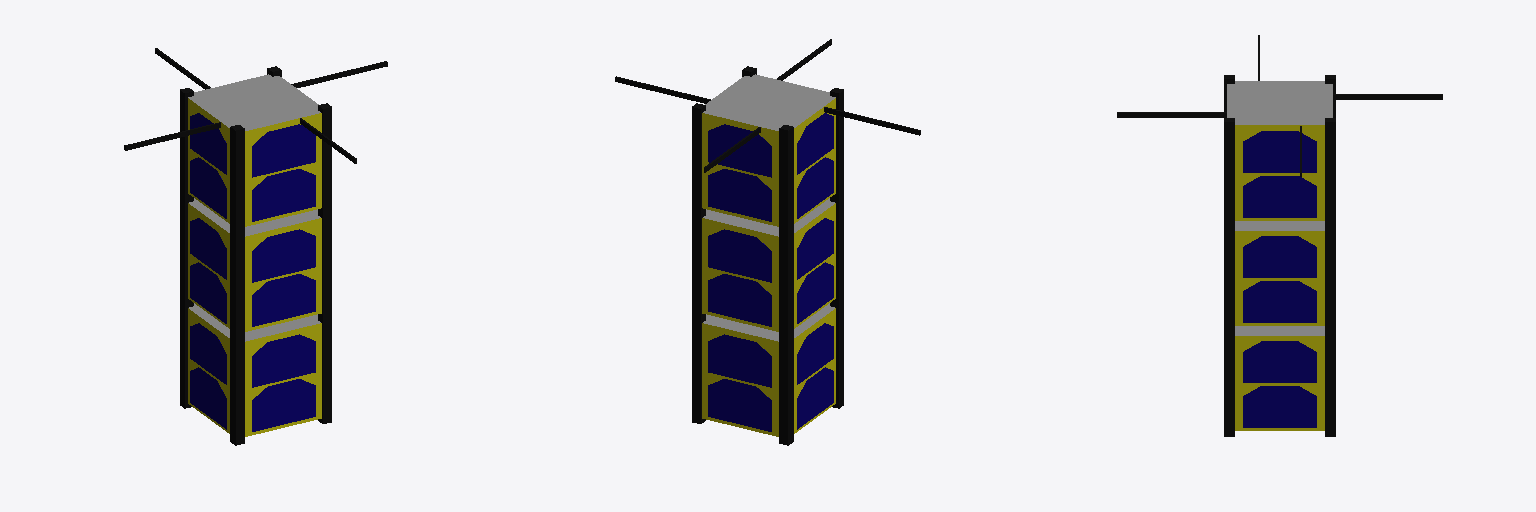
The picture shows the model from 3 angles: view 1: azimuth 30°, elevation 25°; view 2: azimuth 150°, elevation 25°; view 3: azimuth 270°, elevation 25°; orthographic projection.
Visible parts, largest first — view 1: CubeSatWAnten.001, CubeSatWAnten.002, CubeSatWAnten, SolarPanel.022, SolarPanel.011, SolarPanel.006, SolarPanel.010, SolarPanel.021, SolarPanel.005, Leg.003, Leg.005, Leg.011 (+14 smaller); view 2: CubeSatWAnten.001, CubeSatWAnten.002, CubeSatWAnten, SolarPanel.019, SolarPanel.012, SolarPanel.003, SolarPanel.013, SolarPanel.020, SolarPanel.004, Leg.008, Leg.004, Leg.012 (+14 smaller); view 3: CubeSatWAnten.001, CubeSatWAnten.002, CubeSatWAnten, SolarPanel.002, SolarPanel.014, SolarPanel.018, SolarPanel.015, SolarPanel.017, SolarPanel.001, Leg.001, Leg.002, Leg.007 (+5 smaller).
Part boxes in pixels (bbox=[...]): CubeSatWAnten.001: bbox=[188, 74, 321, 226]; CubeSatWAnten.002: bbox=[188, 303, 321, 436]; CubeSatWAnten: bbox=[188, 198, 321, 331]; SolarPanel.022: bbox=[252, 379, 315, 431]; SolarPanel.011: bbox=[252, 229, 315, 282]; SolarPanel.006: bbox=[252, 169, 315, 221]; SolarPanel.010: bbox=[252, 274, 315, 326]; SolarPanel.021: bbox=[252, 334, 315, 387]; SolarPanel.005: bbox=[252, 124, 315, 177]; Leg.003: bbox=[230, 125, 244, 235]; Leg.005: bbox=[230, 232, 244, 340]; Leg.011: bbox=[230, 337, 244, 445]; CubeSatWAnten.001: bbox=[702, 74, 835, 226]; CubeSatWAnten.002: bbox=[702, 303, 835, 436]; CubeSatWAnten: bbox=[702, 198, 835, 331]; SolarPanel.019: bbox=[708, 379, 771, 431]; SolarPanel.012: bbox=[708, 229, 771, 282]; SolarPanel.003: bbox=[708, 169, 771, 221]; SolarPanel.013: bbox=[708, 274, 771, 326]; SolarPanel.020: bbox=[708, 334, 771, 387]; SolarPanel.004: bbox=[708, 124, 771, 177]; Leg.008: bbox=[779, 125, 793, 235]; Leg.004: bbox=[779, 232, 793, 340]; Leg.012: bbox=[779, 337, 793, 445]; CubeSatWAnten.001: bbox=[1227, 81, 1332, 220]; CubeSatWAnten.002: bbox=[1235, 326, 1324, 430]; CubeSatWAnten: bbox=[1235, 221, 1324, 325]; SolarPanel.002: bbox=[1243, 176, 1316, 217]; SolarPanel.014: bbox=[1243, 281, 1316, 322]; SolarPanel.018: bbox=[1243, 386, 1316, 427]; SolarPanel.015: bbox=[1243, 236, 1316, 277]; SolarPanel.017: bbox=[1243, 341, 1316, 382]; SolarPanel.001: bbox=[1243, 131, 1316, 172]; Leg.001: bbox=[1224, 118, 1234, 226]; Leg.002: bbox=[1325, 118, 1335, 226]; Leg.007: bbox=[1224, 227, 1234, 331].
Bounding box in the file's own units: 0.31 × 0.33 × 0.31.